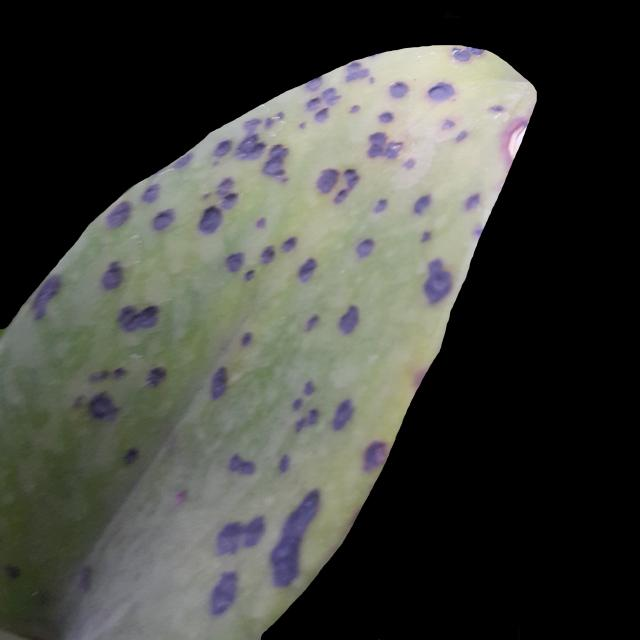mite: (73, 161, 451, 470), (78, 361, 169, 423), (76, 384, 126, 427), (115, 302, 160, 333), (87, 389, 119, 422), (330, 396, 356, 432), (197, 204, 224, 235), (99, 259, 125, 291), (117, 441, 145, 470), (226, 451, 257, 477), (336, 303, 361, 335), (209, 365, 229, 400), (426, 80, 456, 102), (151, 206, 176, 232), (296, 256, 319, 283), (144, 364, 168, 388), (354, 236, 376, 259), (224, 250, 245, 273), (411, 192, 432, 215), (3, 561, 22, 581), (122, 445, 140, 466)
spots: (2, 43, 538, 635)
